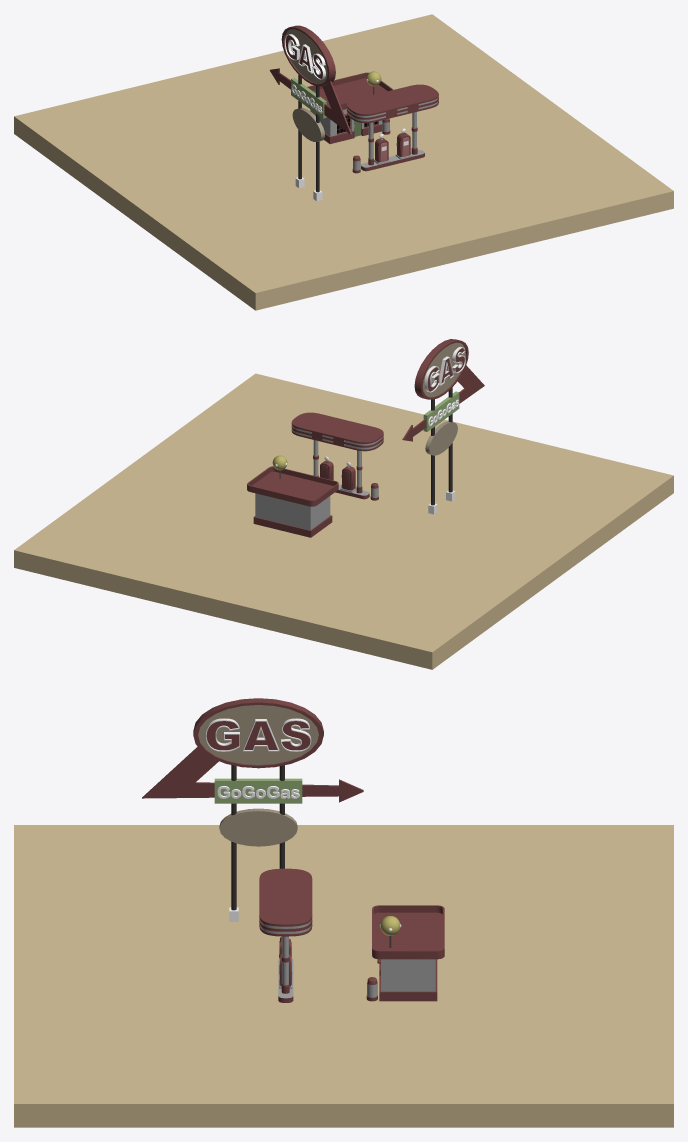
The model's file is RevizePetrol.fbx.
3 renders of one model, top to bottom at view 1: azimuth 30°, elevation 25°; view 2: azimuth 150°, elevation 25°; view 3: azimuth 270°, elevation 25°, orthographic. The views are drawn at different scales.
Parts seen in each view (by area): view 1: Box020, Box008, Box002, Box015, Cylinder013.001, Cylinder015.001, TextPlus005, Object008, Box016; view 2: Box020, Box002, Box008, Plane001, Cylinder013.001, Box015, Object008, Cylinder015.001, TextPlus005, Object024, Box016; view 3: Box020, Box002, Object008, Box008, Box015, Cylinder015.001, Plane001, Cylinder013.001, Box016, Object009, TextPlus004, Object024 (+1 smaller).
Part boxes in pixels (x1,y1,x2,y2): Box020: [14, 14, 673, 310]; Box008: [347, 84, 438, 123]; Box002: [307, 72, 393, 109]; Box015: [269, 68, 351, 134]; Cylinder013.001: [281, 25, 335, 86]; Cylinder015.001: [292, 108, 324, 141]; TextPlus005: [284, 34, 325, 79]; Object008: [285, 29, 327, 83]; Box016: [291, 78, 326, 118]; Box020: [14, 373, 673, 669]; Box002: [247, 466, 338, 506]; Box008: [291, 412, 383, 451]; Plane001: [255, 493, 330, 530]; Cylinder013.001: [414, 339, 468, 399]; Box015: [402, 365, 484, 441]; Object008: [422, 342, 465, 397]; Cylinder015.001: [425, 421, 457, 455]; TextPlus005: [424, 346, 465, 392]; Object024: [253, 515, 332, 537]; Box016: [423, 391, 459, 431]; Box020: [14, 825, 673, 1127]; Box002: [372, 905, 444, 959]; Object008: [198, 705, 318, 764]; Box008: [259, 868, 312, 936]; Box015: [142, 746, 363, 802]; Cylinder015.001: [219, 808, 297, 846]; Plane001: [381, 959, 435, 991]; Cylinder013.001: [193, 698, 323, 768]; Box016: [214, 778, 302, 803]; Object009: [206, 721, 310, 750]; TextPlus004: [206, 718, 311, 751]; Object024: [379, 959, 437, 1001].
Size of the model in its own units: 1270 by 517 by 1270.
